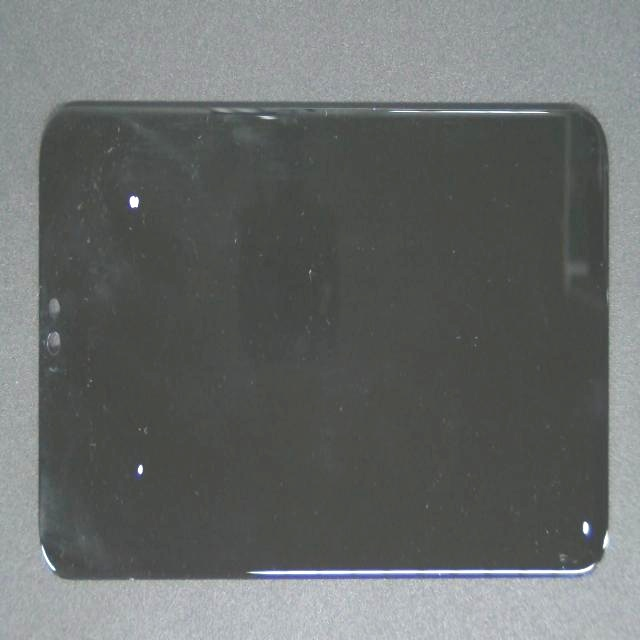stain: (287, 204, 640, 640), (73, 204, 196, 640), (73, 70, 192, 278)
